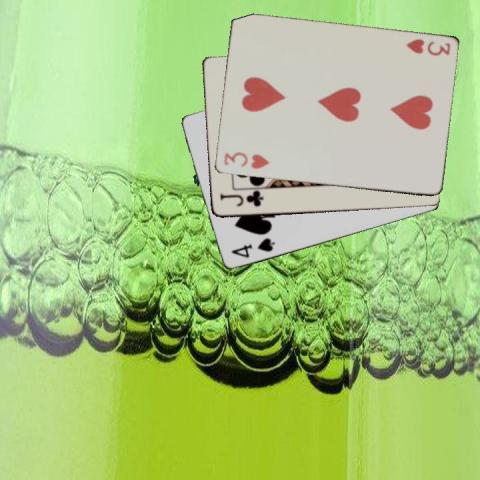3h: (221, 148, 270, 170), (403, 36, 451, 57)
4s: (228, 236, 275, 260)
Jc: (217, 191, 265, 208)
